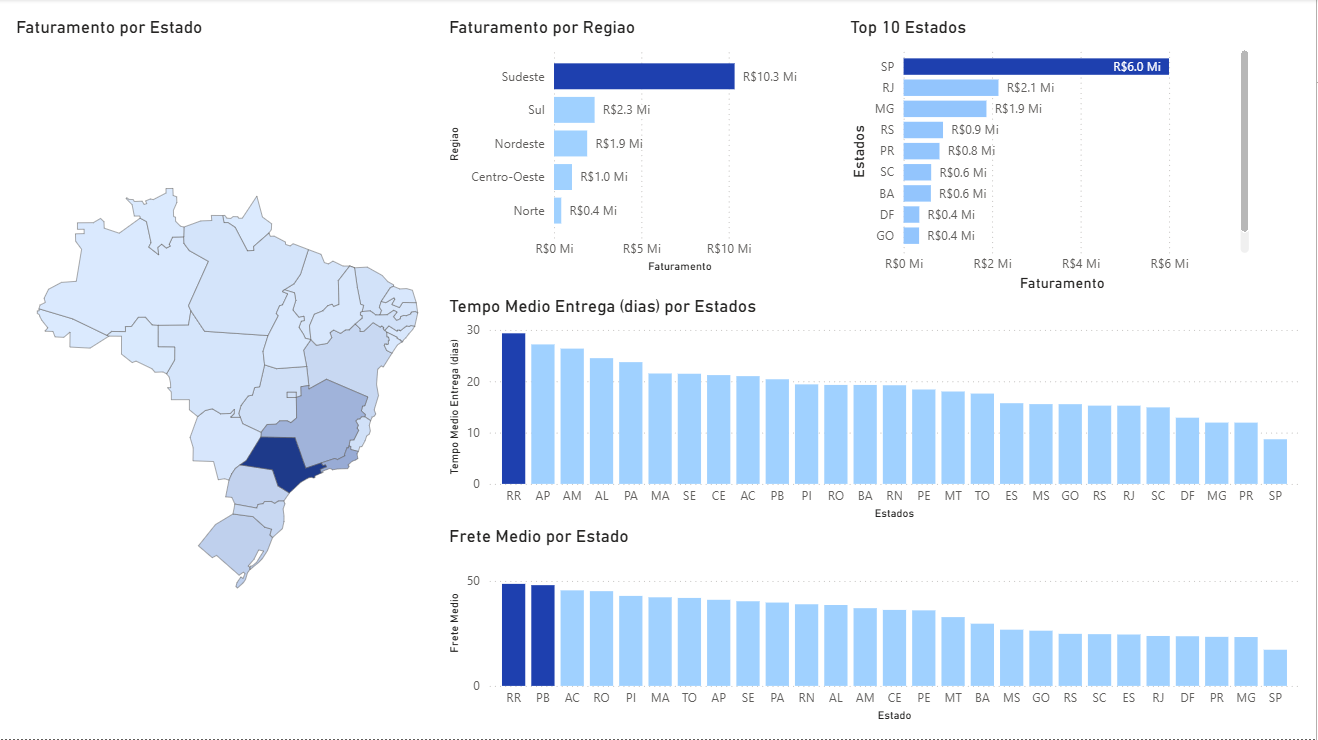

This screenshot's page, from the dashboard's own definition file:
{"tool":"powerbi","page":{"name":"Geográfico","canvas":[1280,720],"ordinal":1},"visuals":[{"type":"shapeMap","title":"Faturamento por Estado","fields":{"Value":["vw_vendas.Faturamento"],"Category":["vw_vendas.Nome Estado"]},"box":[10.7,17.5,421.2,702.2],"z":0},{"type":"barChart","title":"Top 10 Estados","fields":{"Category":["vw_vendas.customer_state"],"Y":["vw_vendas.Faturamento"]},"box":[821.9,17.5,397.8,271.4],"z":1000},{"type":"barChart","fields":{"Category":["vw_vendas.Regiao"],"Y":["vw_vendas.Faturamento"]},"box":[431.9,17.5,379.3,252.9],"z":3000},{"type":"columnChart","fields":{"Category":["vw_vendas.customer_state"],"Y":["vw_vendas.Frete Medio"]},"box":[431.9,512.6,836.5,194.5],"z":4000},{"type":"columnChart","fields":{"Category":["vw_vendas.customer_state"],"Y":["vw_vendas.Tempo Medio Entrega (dias)"]},"box":[431.9,288.9,836.5,221.8],"z":5000}]}

Visuals, with their boxes in screenshot pixels (x1, y1, x2, y2), scaled from the page's 1280x720 canvas onto the 1318x740 screenshot:
"Faturamento por Estado" shapeMap: 11,18,445,739
"Top 10 Estados" barChart: 846,18,1256,297
barChart - vw_vendas.Regiao x vw_vendas.Faturamento: 445,18,835,278
columnChart - vw_vendas.customer_state x vw_vendas.Frete Medio: 445,527,1306,727
columnChart - vw_vendas.customer_state x vw_vendas.Tempo Medio Entrega (dias): 445,297,1306,525
